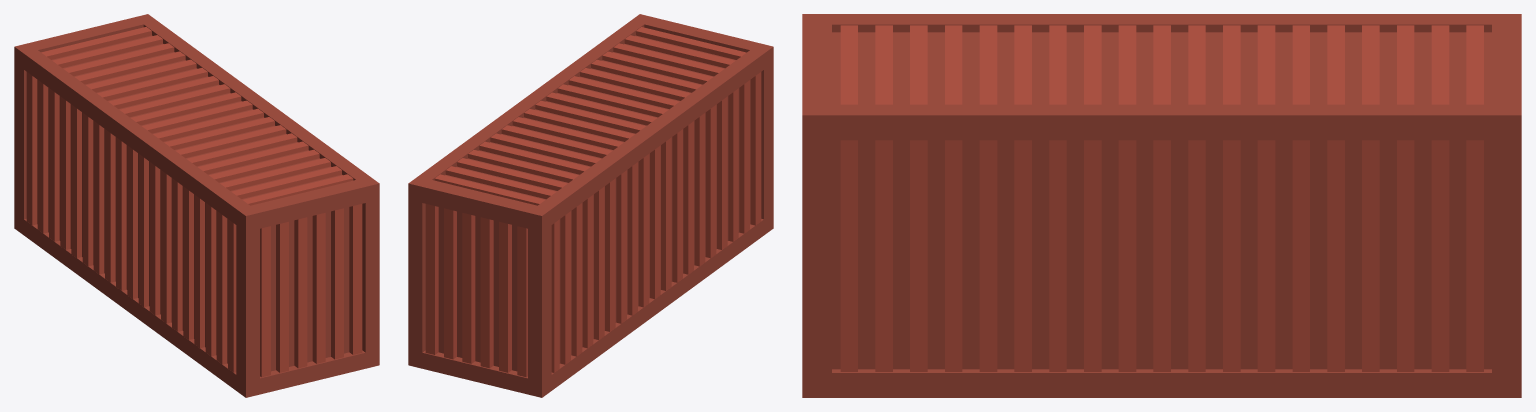
File: Cargo_ship_01_Box2.fbx
3 renders of one model, left to right at view 1: azimuth 30°, elevation 25°; view 2: azimuth 150°, elevation 25°; view 3: azimuth 270°, elevation 25°, orthographic. The views are drawn at different scales.
Visible parts, largest first — view 1: Cargo_ship_01_Box2; view 2: Cargo_ship_01_Box2; view 3: Cargo_ship_01_Box2.
Boxes of the visible parts, x1=… form: Cargo_ship_01_Box2: x1=14, y1=14, x2=379, y2=397; Cargo_ship_01_Box2: x1=408, y1=14, x2=773, y2=397; Cargo_ship_01_Box2: x1=802, y1=14, x2=1521, y2=397.
Bounding box in the file's own units: 200 × 260 × 600.
